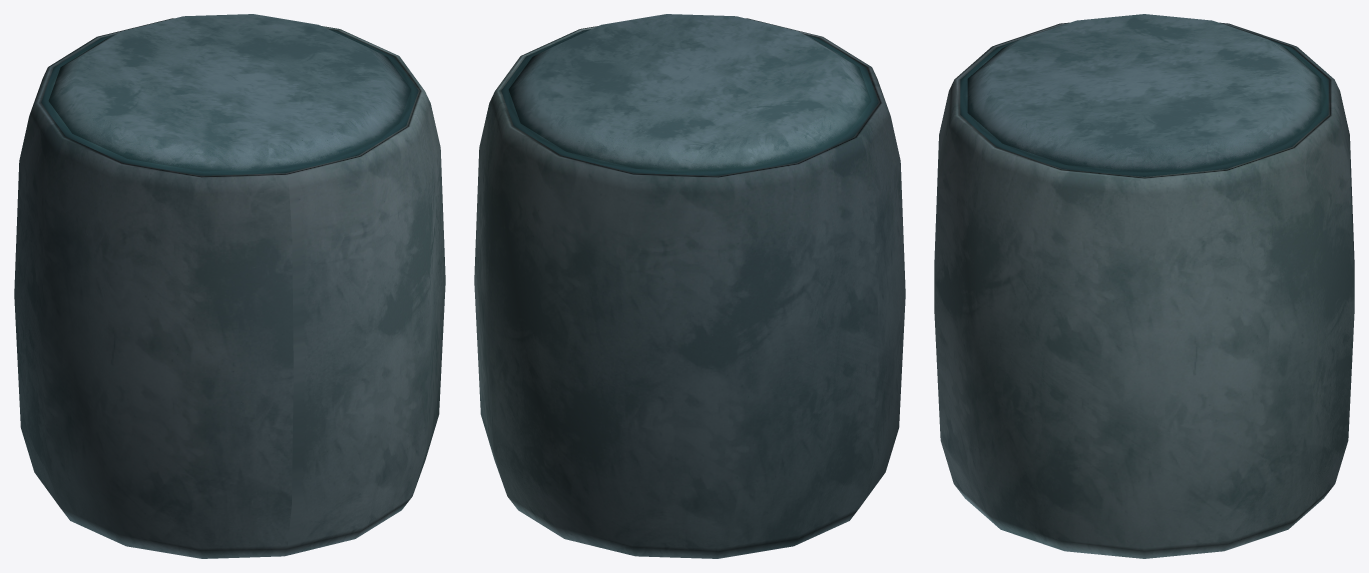
The model's file is Lotus Modular Ottoman.FBX.
3 renders of one model, left to right at view 1: azimuth 30°, elevation 25°; view 2: azimuth 150°, elevation 25°; view 3: azimuth 270°, elevation 25°, orthographic.
Visible parts, largest first — view 1: Lotus Modular Ottoman; view 2: Lotus Modular Ottoman; view 3: Lotus Modular Ottoman.
Part boxes in pixels (x1,y1,x2,y2): Lotus Modular Ottoman: [14, 14, 445, 558]; Lotus Modular Ottoman: [474, 14, 905, 558]; Lotus Modular Ottoman: [934, 14, 1354, 558].
Size of the model in its own units: 0.6931 by 0.7107 by 0.6757.
1 material, 1 textured.
